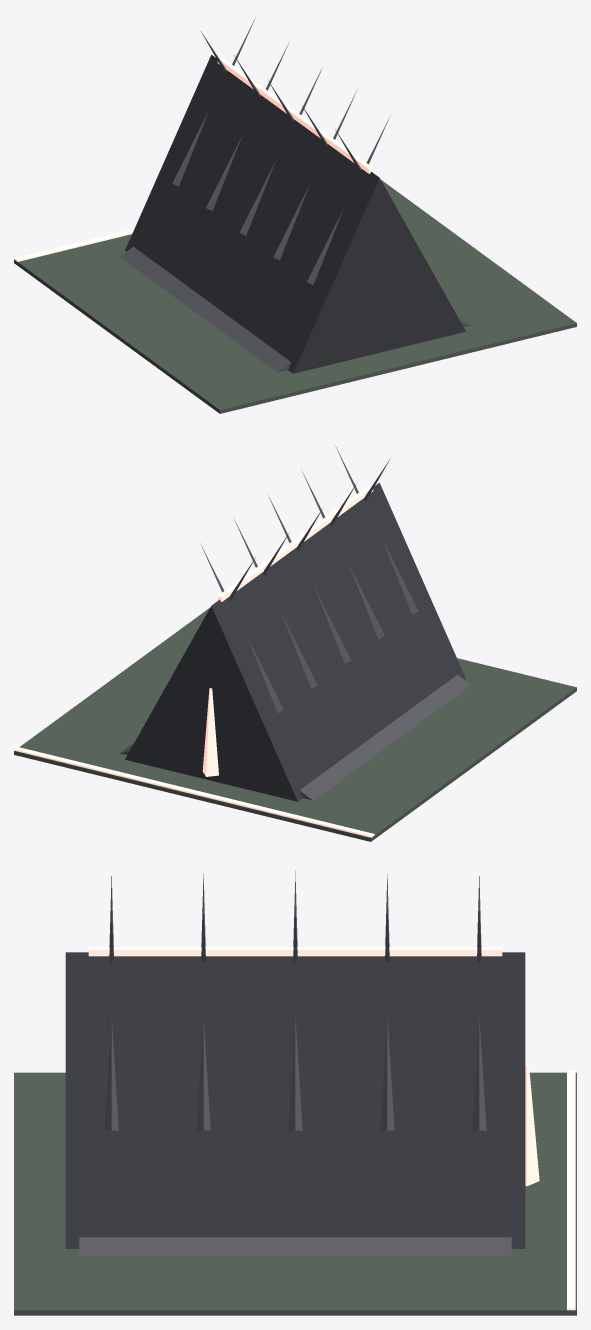
File: zone_low_3.glb
3 renders of one model, top to bottom at view 1: azimuth 30°, elevation 25°; view 2: azimuth 150°, elevation 25°; view 3: azimuth 270°, elevation 25°, orthographic. The views are drawn at different scales.
Visible parts, largest first — view 1: zone_low_3, detail; view 2: zone_low_3, detail; view 3: zone_low_3, detail.
Boxes of the visible parts, x1,y1,x2,y2 form: zone_low_3: (14,17,576,413); detail: (14,173,374,261); zone_low_3: (14,445,576,841); detail: (14,747,374,837); zone_low_3: (14,870,576,1315); detail: (567,1070,575,1310).
Bounding box in the file's own units: 19.6 × 11.79 × 19.6.
